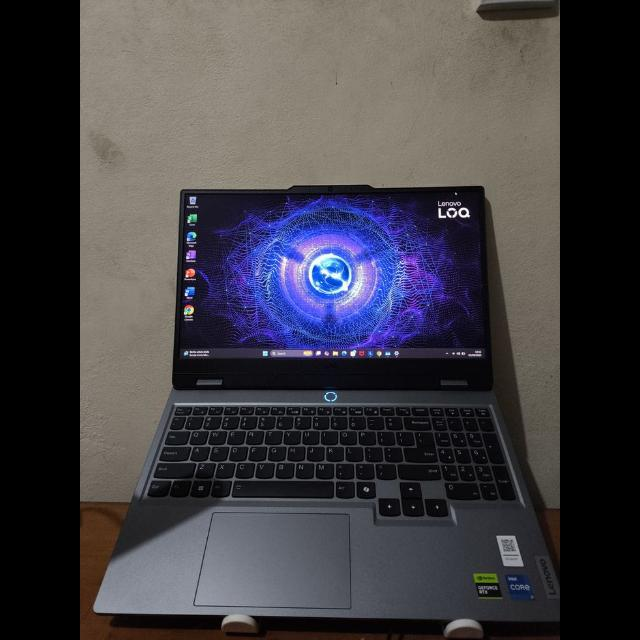laptop: (95, 183, 560, 635)
